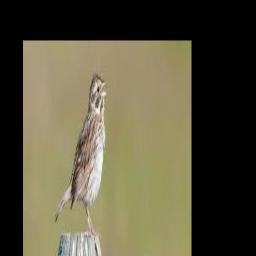Sparrow: (55, 73, 108, 234)
